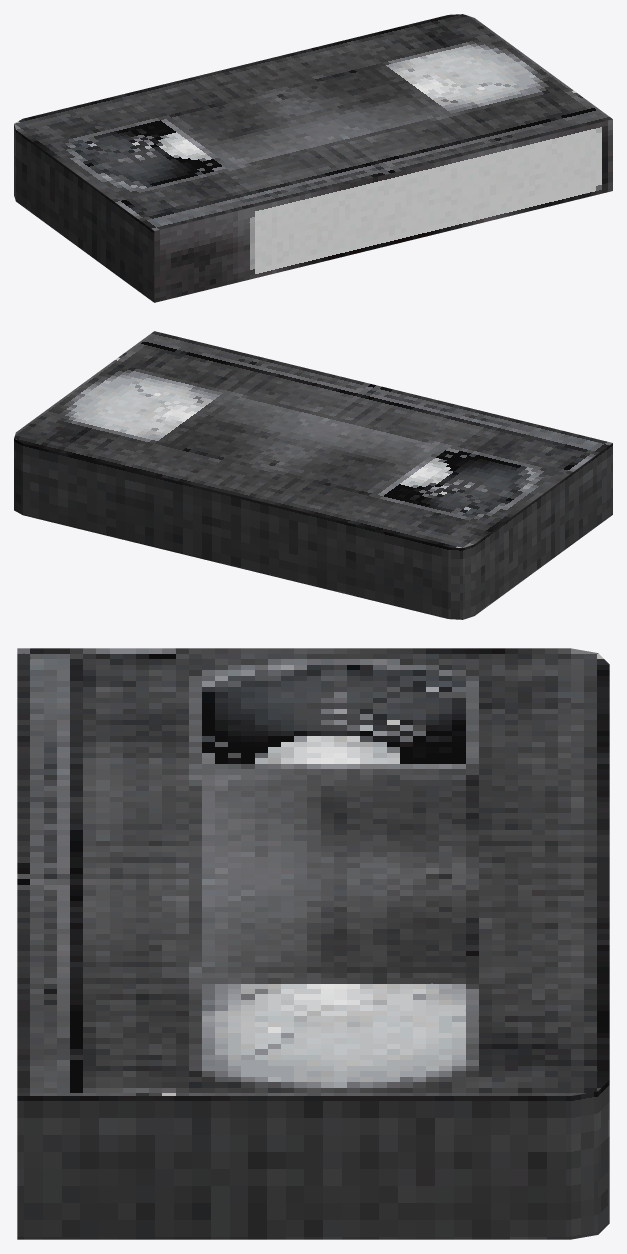
The model's file is vhs_cassette.glb.
3 views of the same model, one above another, from view 1: azimuth 30°, elevation 25°; view 2: azimuth 150°, elevation 25°; view 3: azimuth 270°, elevation 25° (orthographic). The views are drawn at different scales.
Visible parts, largest first — view 1: Cube.003; view 2: Cube.003; view 3: Cube.003.
Part boxes in pixels (<box>): Cube.003: <box>14,14,612,302</box>; Cube.003: <box>14,331,612,619</box>; Cube.003: <box>17,648,609,1239</box>.
Size of the model in its own units: 0.187 by 0.028 by 0.1046.
1 material, 1 textured.
